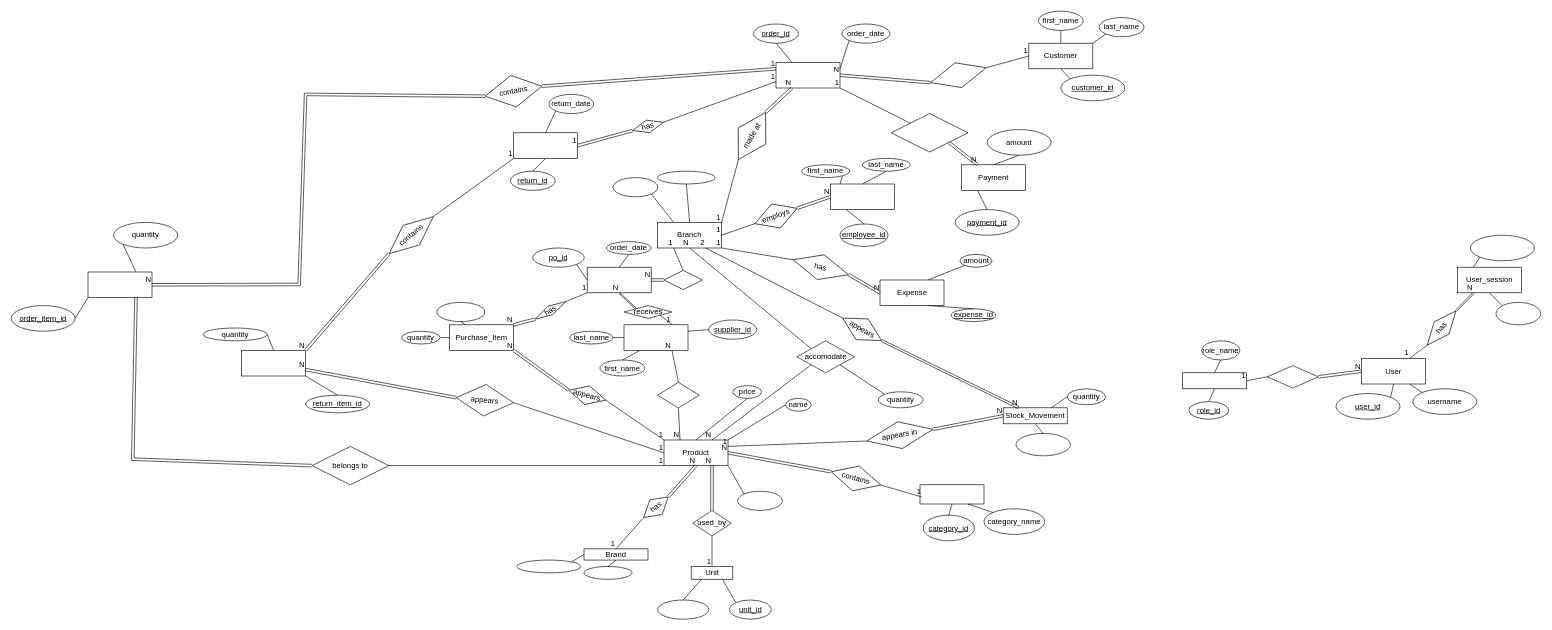
Some shapes in this 1552 by 630 pixel diagram are drawn without their labels. The centre of each missing label's shape, as x and y in pixels:
"assigned to" belongs at point (1292, 376).
"branch_id" belongs at point (635, 187).
"branch_name" belongs at point (686, 177).
"brand_id" belongs at point (607, 572).
"brand_name" belongs at point (548, 566).
"Category" belongs at point (951, 494).
"creates" belongs at point (682, 280).
"Employee" belongs at point (862, 196).
"links to" belongs at point (929, 132).
"login time" belongs at point (1502, 248).
"movement_id" belongs at point (1042, 444).
"Order" belongs at point (807, 75).
"Order_Item" belongs at point (119, 284).
"p_item_id" belongs at point (460, 312).
"places" belongs at point (958, 75).
"product_id" belongs at point (759, 500).
"Purchase_Order" belongs at point (619, 280).
"Return_Item" belongs at point (273, 363).
"Return_orders" belongs at point (545, 145).
"Roles" belongs at point (1214, 380).
"session_id" belongs at point (1518, 313).
"Supplier" belongs at point (655, 337).
"supplies" belongs at point (678, 395).
"unit_name" belongs at point (683, 609).
